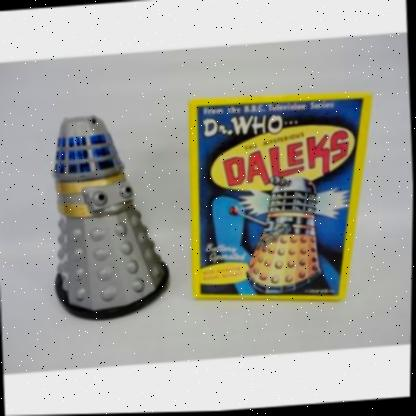dalek: (23, 95, 180, 331), (204, 158, 351, 306)
